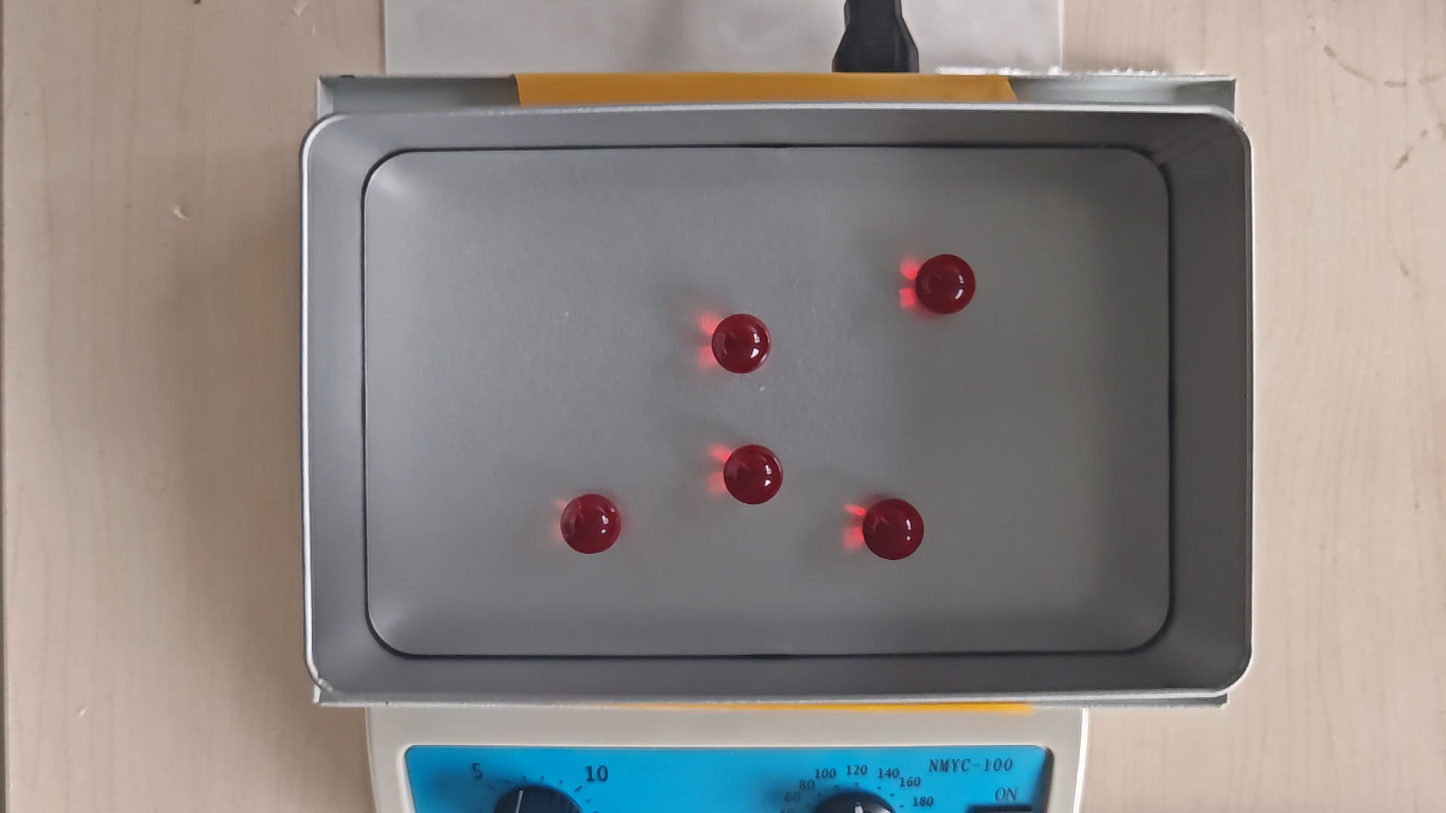ball: (863, 497, 923, 562), (915, 252, 974, 315), (562, 492, 621, 555), (725, 443, 783, 507), (712, 312, 770, 373)
container: (362, 142, 1173, 656)
